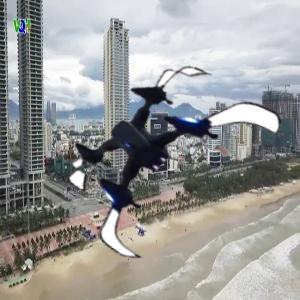drone: (50, 55, 261, 266)
